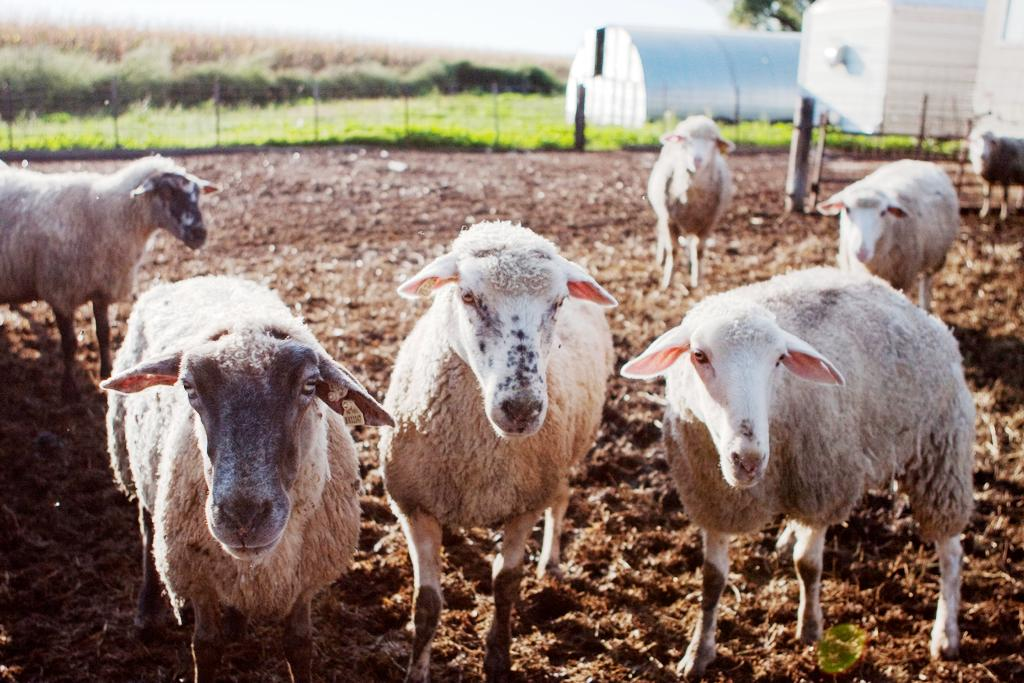Sheep: (614, 262, 989, 683), (88, 274, 398, 683), (376, 219, 622, 683), (0, 149, 235, 374), (813, 137, 963, 324), (636, 102, 731, 288), (967, 112, 1024, 234)
